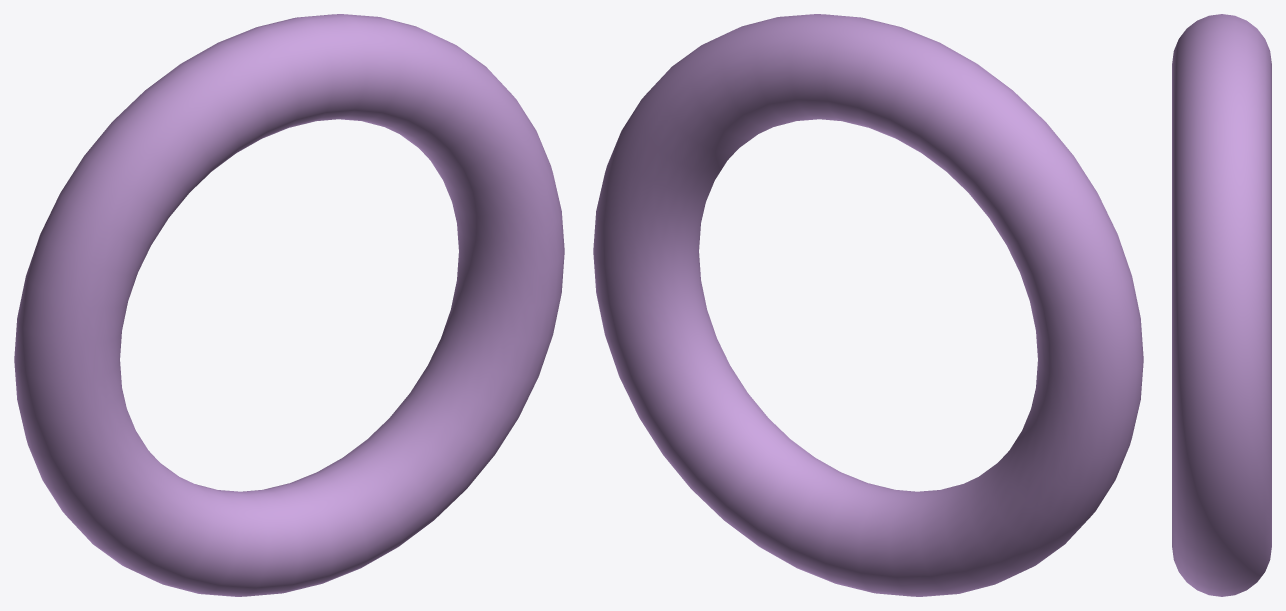
The model's file is gan_torus.glb.
3 views of the same model, side by side, from view 1: azimuth 30°, elevation 25°; view 2: azimuth 150°, elevation 25°; view 3: azimuth 270°, elevation 25° (orthographic). The views are drawn at different scales.
Bounding box in the file's own units: 1.93 × 1.92 × 0.329.
